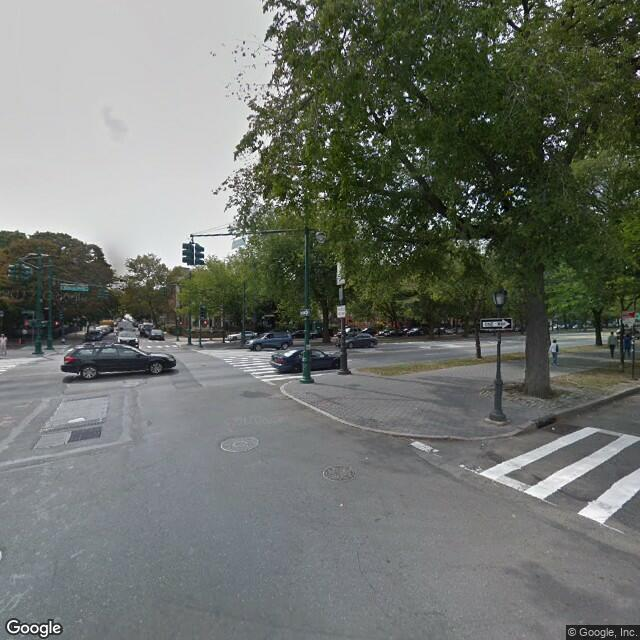litter: (547, 425, 557, 432), (337, 501, 346, 507)
